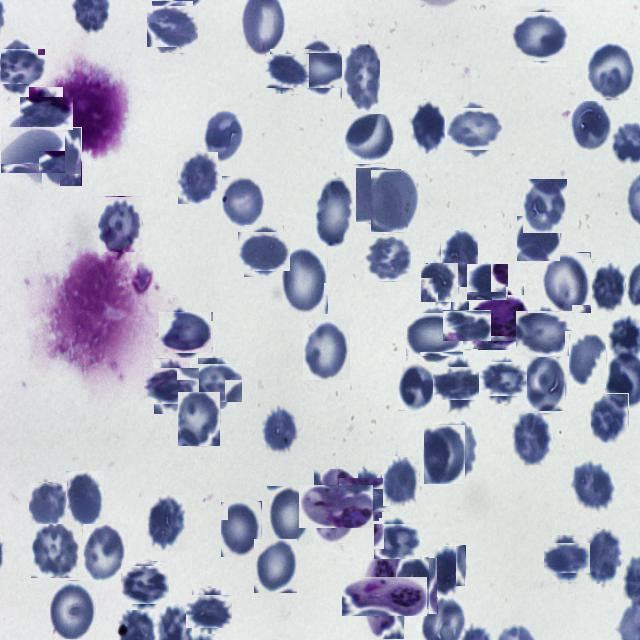gametocyte: (474, 291, 528, 346)
red blood cell: (0, 119, 59, 179), (281, 245, 328, 314), (371, 170, 420, 232), (514, 9, 569, 64), (542, 252, 591, 313), (303, 319, 350, 380), (31, 522, 82, 578), (586, 44, 636, 100), (82, 524, 128, 583), (50, 580, 96, 639), (519, 307, 571, 359), (344, 113, 396, 164), (342, 44, 379, 114), (356, 168, 402, 224), (316, 179, 354, 246), (98, 196, 143, 252), (409, 310, 459, 360), (267, 486, 309, 545), (450, 104, 499, 154), (396, 557, 438, 614), (220, 176, 264, 230), (523, 179, 567, 233), (424, 425, 464, 484), (42, 127, 82, 186), (254, 539, 297, 593), (296, 44, 344, 92), (162, 308, 210, 356), (221, 501, 262, 557), (525, 356, 566, 412), (178, 392, 220, 446), (146, 495, 186, 551), (512, 412, 553, 466), (571, 101, 611, 156), (150, 4, 196, 51), (584, 530, 622, 586), (66, 471, 104, 527), (149, 363, 195, 409), (366, 236, 412, 282), (241, 228, 287, 274), (441, 230, 478, 287), (178, 152, 218, 204), (571, 462, 614, 510), (406, 100, 444, 154), (204, 110, 242, 164), (441, 422, 476, 480), (194, 362, 240, 406), (569, 334, 606, 388), (24, 91, 68, 136), (262, 404, 300, 456), (517, 216, 560, 261), (429, 545, 466, 597), (591, 393, 629, 443), (123, 564, 167, 607), (342, 474, 387, 516), (0, 43, 41, 89), (398, 362, 436, 411), (383, 456, 420, 506), (438, 362, 480, 406), (482, 358, 524, 401), (592, 260, 626, 312), (377, 521, 418, 562), (446, 305, 486, 345), (189, 591, 229, 631), (468, 262, 508, 302), (29, 482, 67, 524), (267, 52, 307, 91), (421, 262, 459, 302), (548, 540, 586, 578)
trophozoite: (352, 566, 416, 628), (306, 477, 366, 536)
